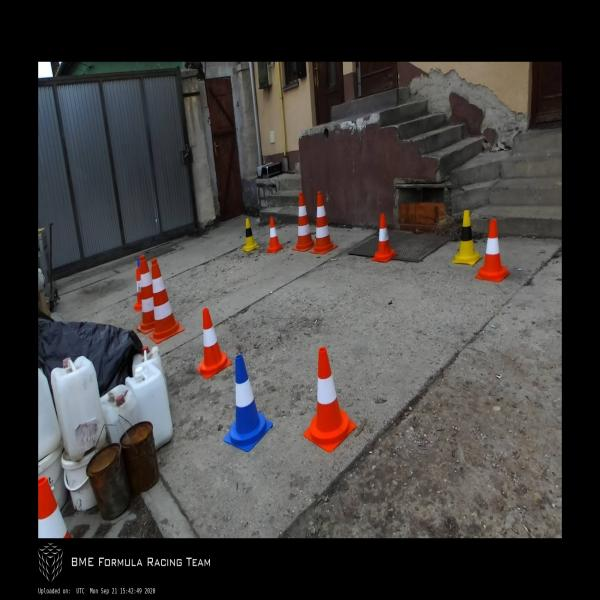blue_cone: (224, 356, 273, 452)
large_orange_cone: (150, 258, 184, 343), (310, 191, 338, 254), (136, 255, 156, 334), (292, 192, 316, 252)
orange_cone: (304, 348, 356, 452), (196, 308, 232, 378), (475, 219, 510, 282), (38, 476, 73, 538), (372, 214, 397, 262), (266, 217, 284, 253), (135, 268, 143, 312)
yellow_cone: (452, 210, 482, 265), (242, 218, 259, 251)
